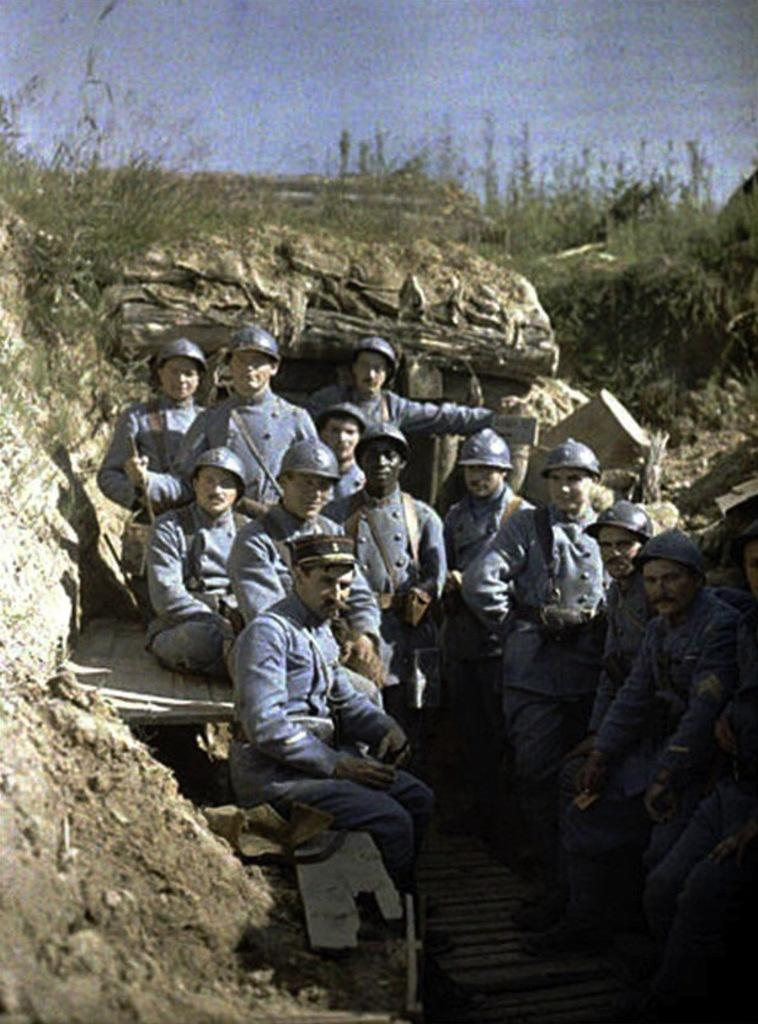helmet: (631, 528, 707, 614), (275, 436, 342, 516), (584, 500, 653, 577), (540, 438, 602, 507), (188, 446, 248, 512), (353, 421, 411, 486), (457, 429, 514, 495), (222, 328, 281, 388), (156, 338, 208, 398), (316, 401, 367, 458), (348, 336, 396, 392)
